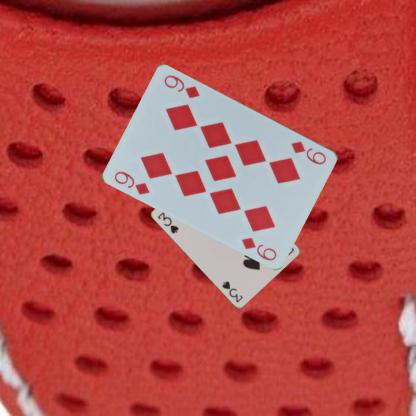3s: (156, 209, 180, 235)
9d: (112, 168, 152, 197), (288, 138, 328, 166)
